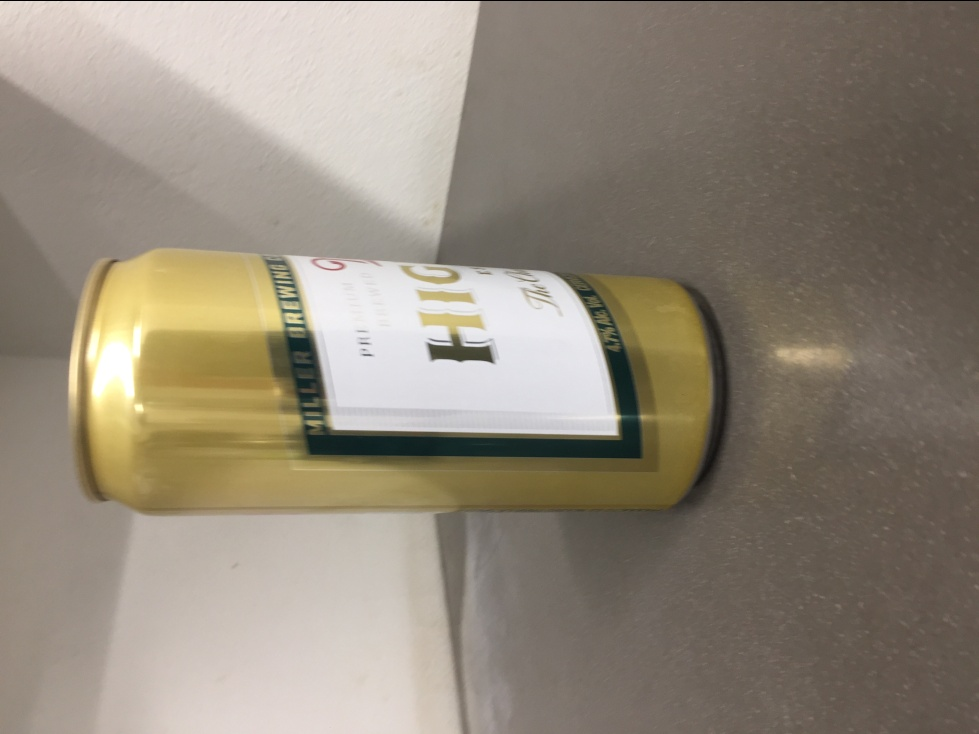miller: (64, 240, 724, 515)
